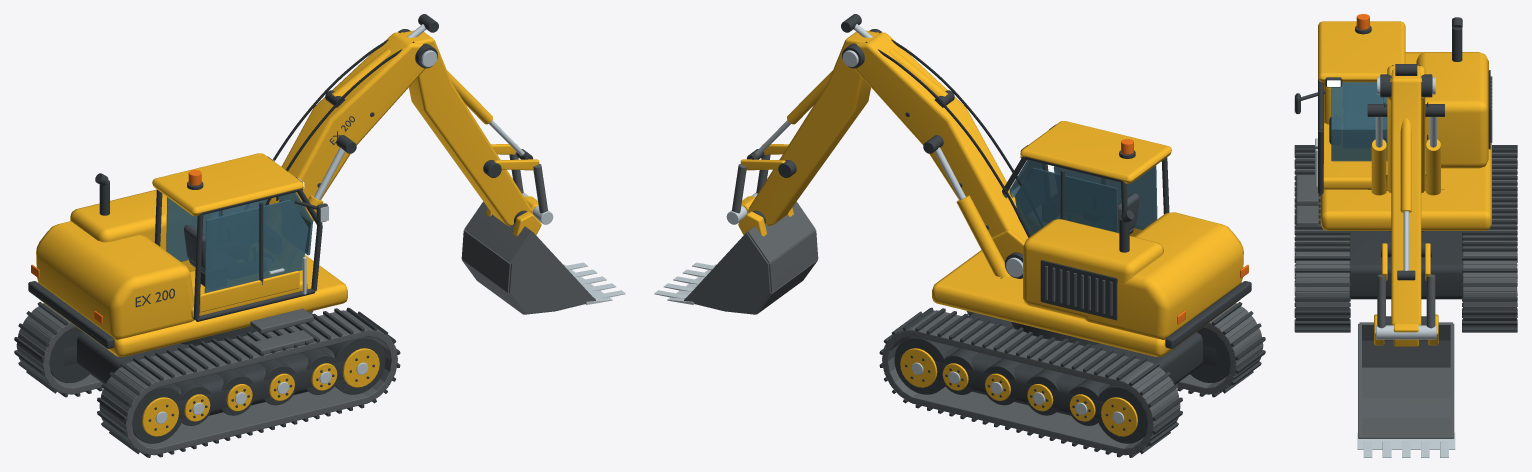
Rendered from excavator.glb.
3 views of the same model, side by side, from view 1: azimuth 30°, elevation 25°; view 2: azimuth 150°, elevation 25°; view 3: azimuth 270°, elevation 25° (orthographic).
Parts seen in each view (by area): view 1: Mesh_J_Slew, Mesh_J_Base, Mesh_J_Bucket, Mesh_J_Boom, Mesh_J_Stick, Mesh_J_BucketRocker, Mesh_J_BucketLink, Mesh_Bucket ram_barrel; view 2: Mesh_J_Slew, Mesh_J_Base, Mesh_J_Boom, Mesh_J_Bucket, Mesh_J_Stick, Mesh_Boom lift 0.34_barrel, Mesh_J_BucketRocker, Mesh_J_BucketLink, Mesh_Bucket ram_barrel; view 3: Mesh_J_Slew, Mesh_J_Base, Mesh_J_Bucket, Mesh_J_Stick, Mesh_J_Boom, Mesh_Bucket ram_barrel, Mesh_J_BucketLink, Mesh_Boom lift -0.34_barrel, Mesh_J_BucketRocker, Mesh_Boom lift 0.34_barrel, Mesh_Bucket ram_rod, Mesh_Boom lift -0.34_rod.
Part boxes in pixels (<box>): Mesh_J_Slew: <box>28,153,347,356</box>; Mesh_J_Base: <box>14,302,400,457</box>; Mesh_J_Bucket: <box>461,192,625,314</box>; Mesh_J_Boom: <box>265,32,429,205</box>; Mesh_J_Stick: <box>398,14,531,226</box>; Mesh_J_BucketRocker: <box>483,144,539,177</box>; Mesh_J_BucketLink: <box>509,152,547,213</box>; Mesh_Bucket ram_barrel: <box>447,70,492,124</box>; Mesh_J_Slew: <box>932,121,1251,356</box>; Mesh_J_Base: <box>879,302,1265,457</box>; Mesh_J_Boom: <box>850,32,1030,278</box>; Mesh_J_Bucket: <box>654,192,818,314</box>; Mesh_J_Stick: <box>748,14,881,226</box>; Mesh_Boom lift 0.34_barrel: <box>956,195,1010,277</box>; Mesh_J_BucketRocker: <box>740,144,796,177</box>; Mesh_J_BucketLink: <box>732,152,770,213</box>; Mesh_Bucket ram_barrel: <box>787,70,832,124</box>; Mesh_J_Slew: <box>1294,14,1492,230</box>; Mesh_J_Base: <box>1294,145,1517,332</box>; Mesh_J_Bucket: <box>1357,314,1455,457</box>; Mesh_J_Stick: <box>1377,64,1435,325</box>; Mesh_J_Boom: <box>1367,65,1444,193</box>; Mesh_Bucket ram_barrel: <box>1400,118,1411,212</box>; Mesh_J_BucketLink: <box>1377,274,1435,328</box>; Mesh_Boom lift -0.34_barrel: <box>1371,139,1386,195</box>; Mesh_J_BucketRocker: <box>1381,241,1431,280</box>; Mesh_Boom lift 0.34_barrel: <box>1425,139,1440,195</box>; Mesh_Bucket ram_rod: <box>1403,211,1408,270</box>; Mesh_Boom lift -0.34_rod: <box>1375,117,1382,147</box>.
Bounding box in the file's own units: 7.89 × 4.48 × 2.81.
